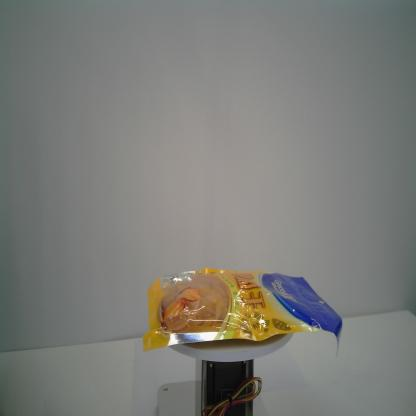Dried Fruit: (141, 266, 344, 359)
